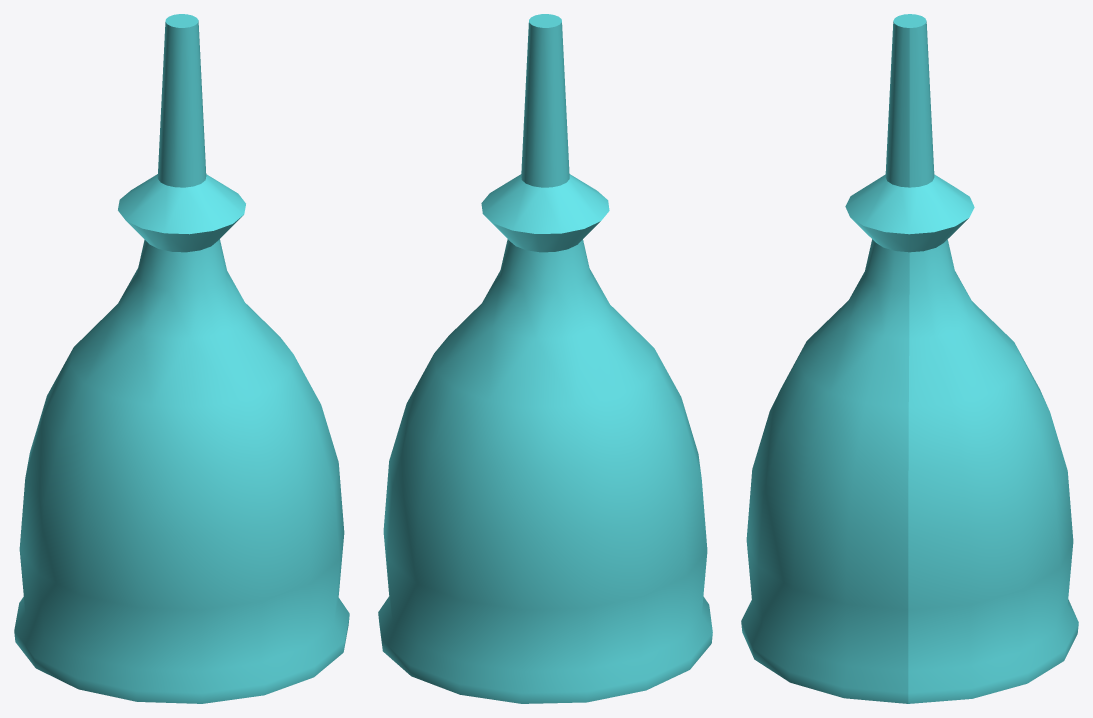
The model's file is SM_Magic_Kettle_Cap.fbx.
3 renders of one model, left to right at view 1: azimuth 30°, elevation 25°; view 2: azimuth 150°, elevation 25°; view 3: azimuth 270°, elevation 25°, orthographic.
Parts seen in each view (by area): view 1: SM_Magic_Kettle_Cap; view 2: SM_Magic_Kettle_Cap; view 3: SM_Magic_Kettle_Cap.
Boxes of the visible parts, bbox=[...] form: SM_Magic_Kettle_Cap: bbox=[14, 14, 349, 703]; SM_Magic_Kettle_Cap: bbox=[378, 14, 712, 703]; SM_Magic_Kettle_Cap: bbox=[741, 14, 1078, 703].
Bounding box in the file's own units: 0.1066 × 0.2154 × 0.1066.
